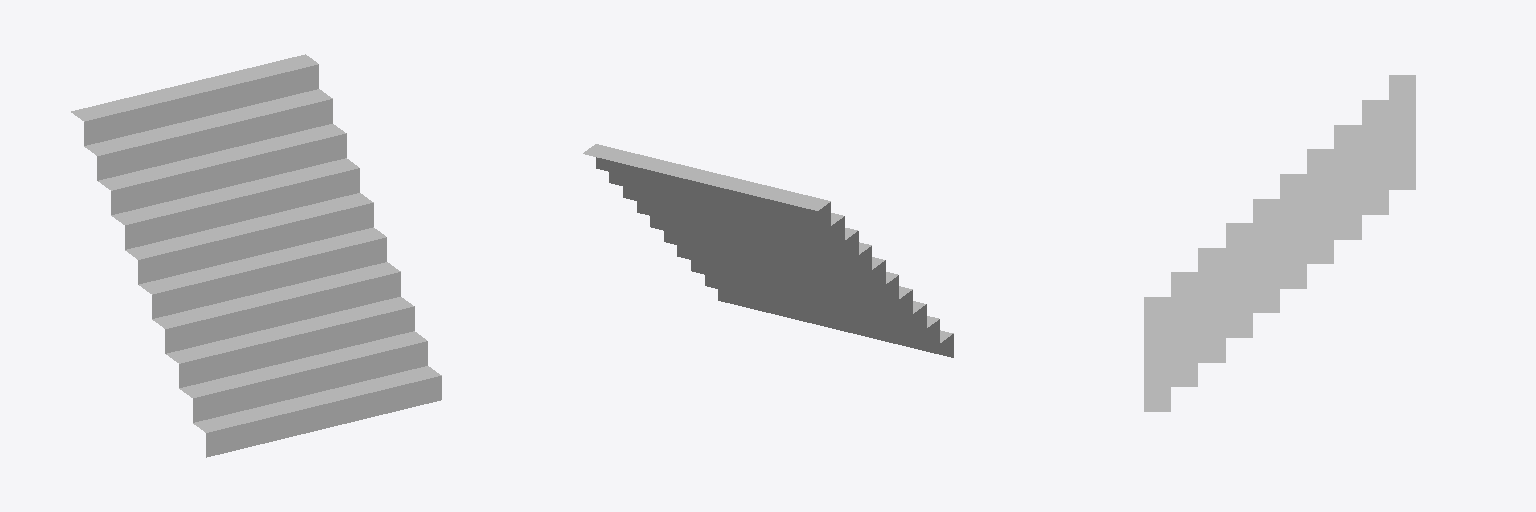
File: stairs.obj
3 views of the same model, side by side, from view 1: azimuth 30°, elevation 25°; view 2: azimuth 150°, elevation 25°; view 3: azimuth 270°, elevation 25° (orthographic).
Visible parts, largest first — view 1: stairs; view 2: stairs; view 3: stairs.
Boxes of the visible parts, <box> form: stairs: <box>71,54,441,457</box>; stairs: <box>583,144,953,357</box>; stairs: <box>1144,75,1415,411</box>.
Bounding box in the file's own units: 2 × 2 × 2.